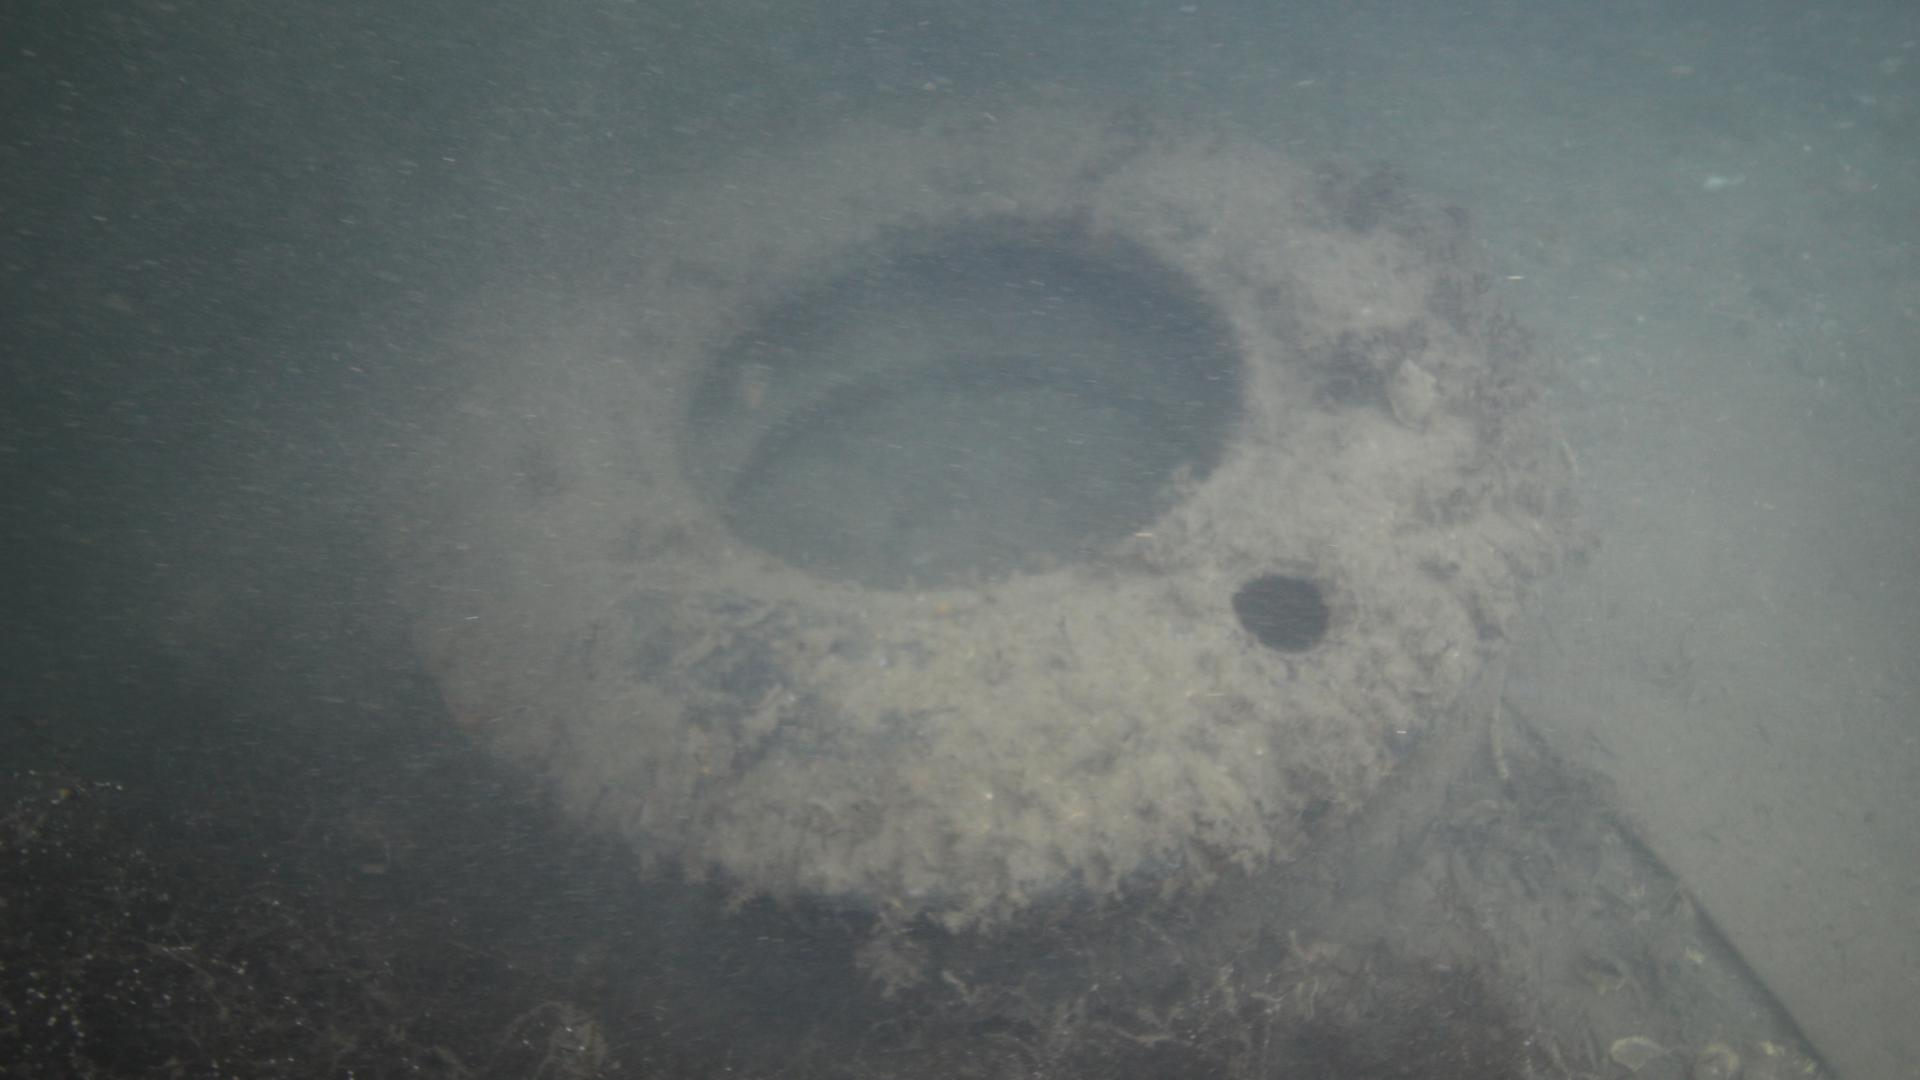tire: (378, 80, 1564, 930)
